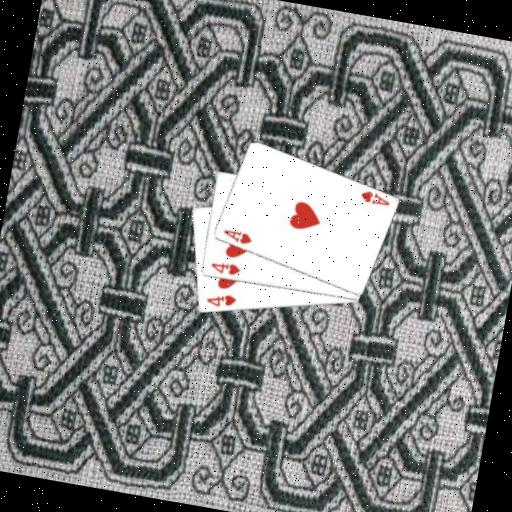4H: (202, 288, 238, 312), (206, 257, 242, 278)
AH: (356, 186, 392, 209), (218, 225, 254, 247)
